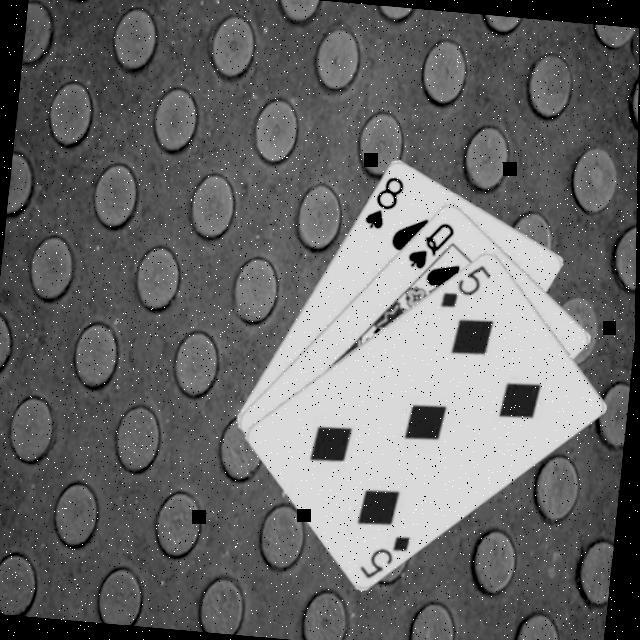5D: (355, 525, 414, 582), (436, 255, 494, 312)
8S: (358, 168, 406, 231)
QS: (401, 214, 457, 272)
